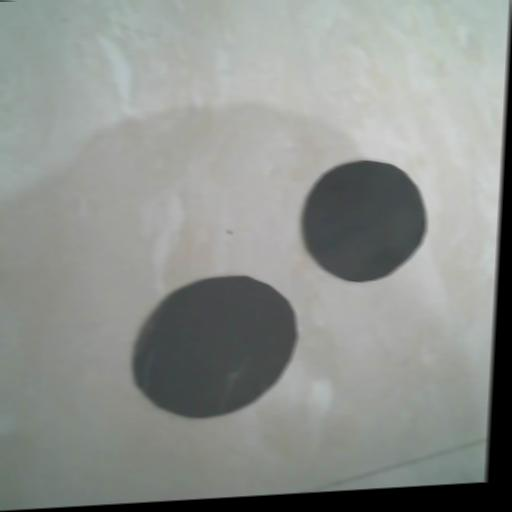pothole: (127, 270, 301, 422), (295, 153, 432, 285)
